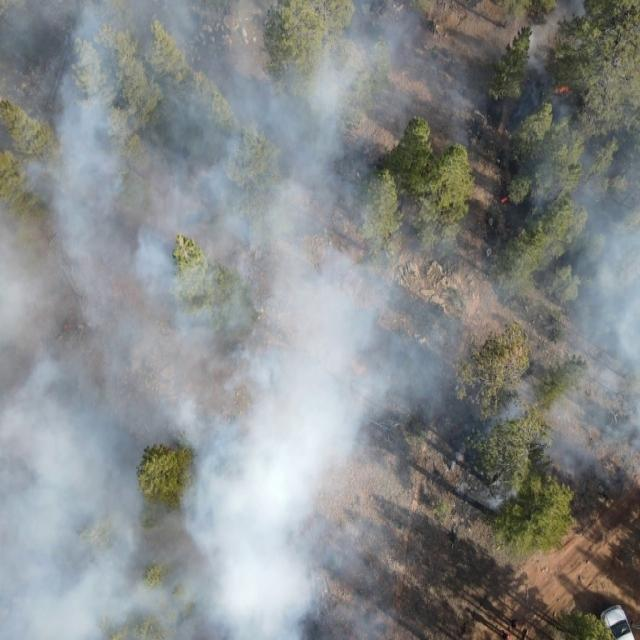fire: (549, 82, 570, 98), (496, 194, 510, 205)
smoke: (0, 0, 393, 640), (393, 0, 640, 508)
